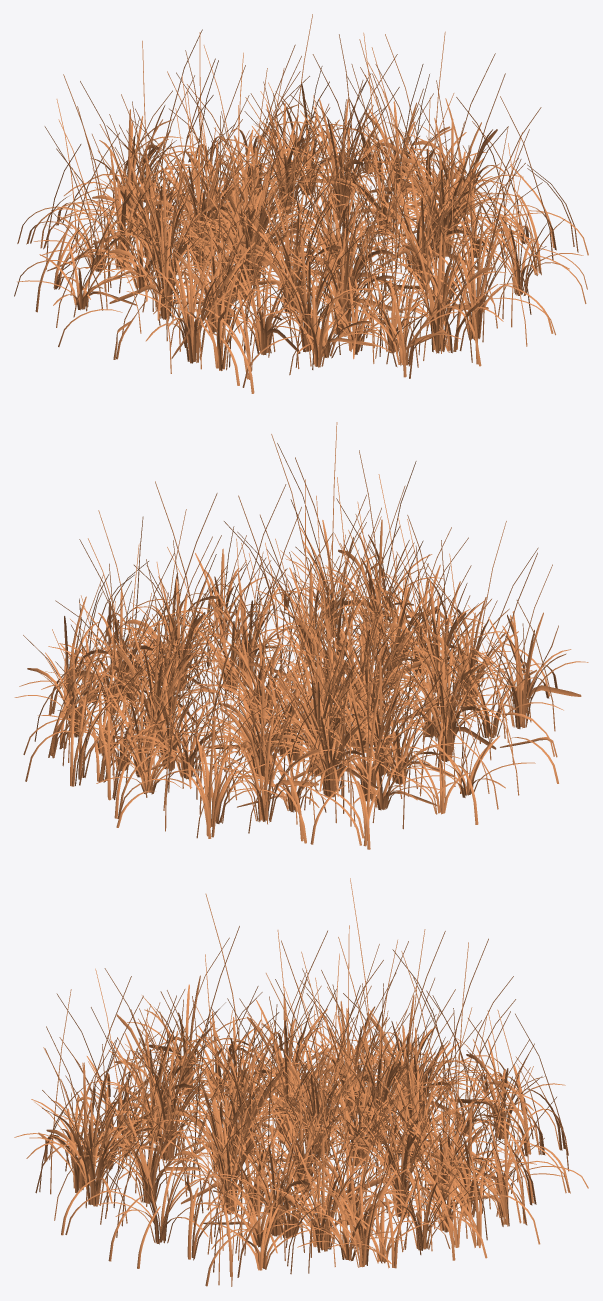
3 renders of one model, top to bottom at view 1: azimuth 30°, elevation 25°; view 2: azimuth 150°, elevation 25°; view 3: azimuth 270°, elevation 25°, orthographic.
Visible parts, largest first — view 1: AM124_134_medium_v2; view 2: AM124_134_medium_v2; view 3: AM124_134_medium_v2.
Boxes of the visible parts, left/top/right/bottom form: AM124_134_medium_v2: left=14, top=14, right=588, bottom=393; AM124_134_medium_v2: left=14, top=422, right=588, bottom=849; AM124_134_medium_v2: left=14, top=878, right=588, bottom=1286.
Bounding box in the file's own units: 616 × 255 × 635.
